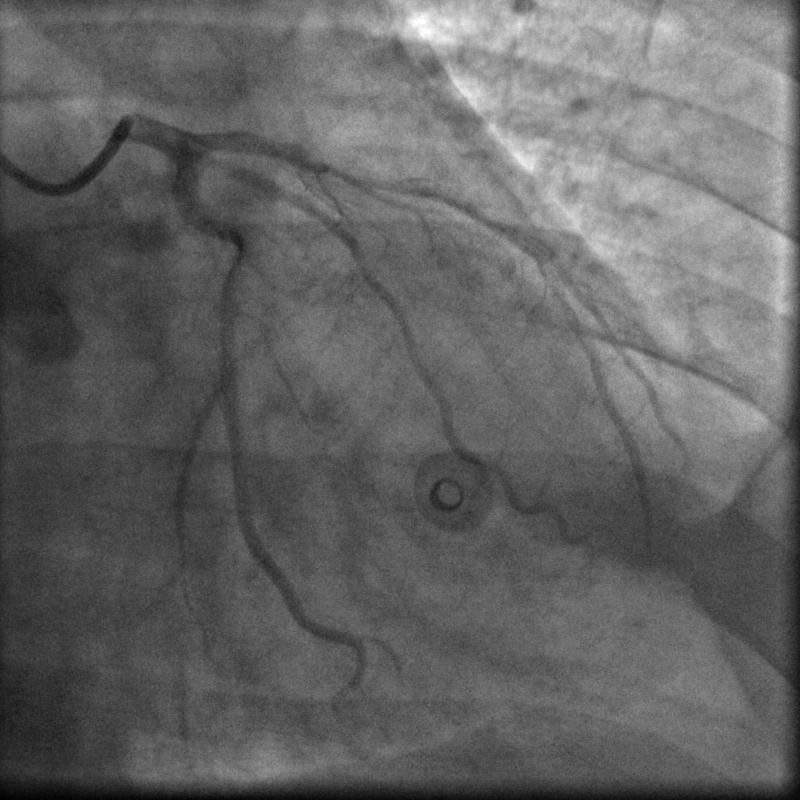Stenosis: (329, 159, 416, 199)
